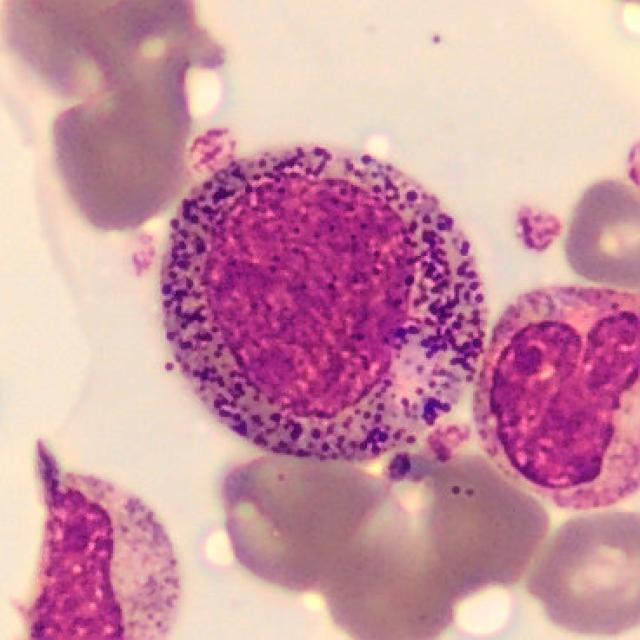Promielocito: (158, 144, 487, 465)
